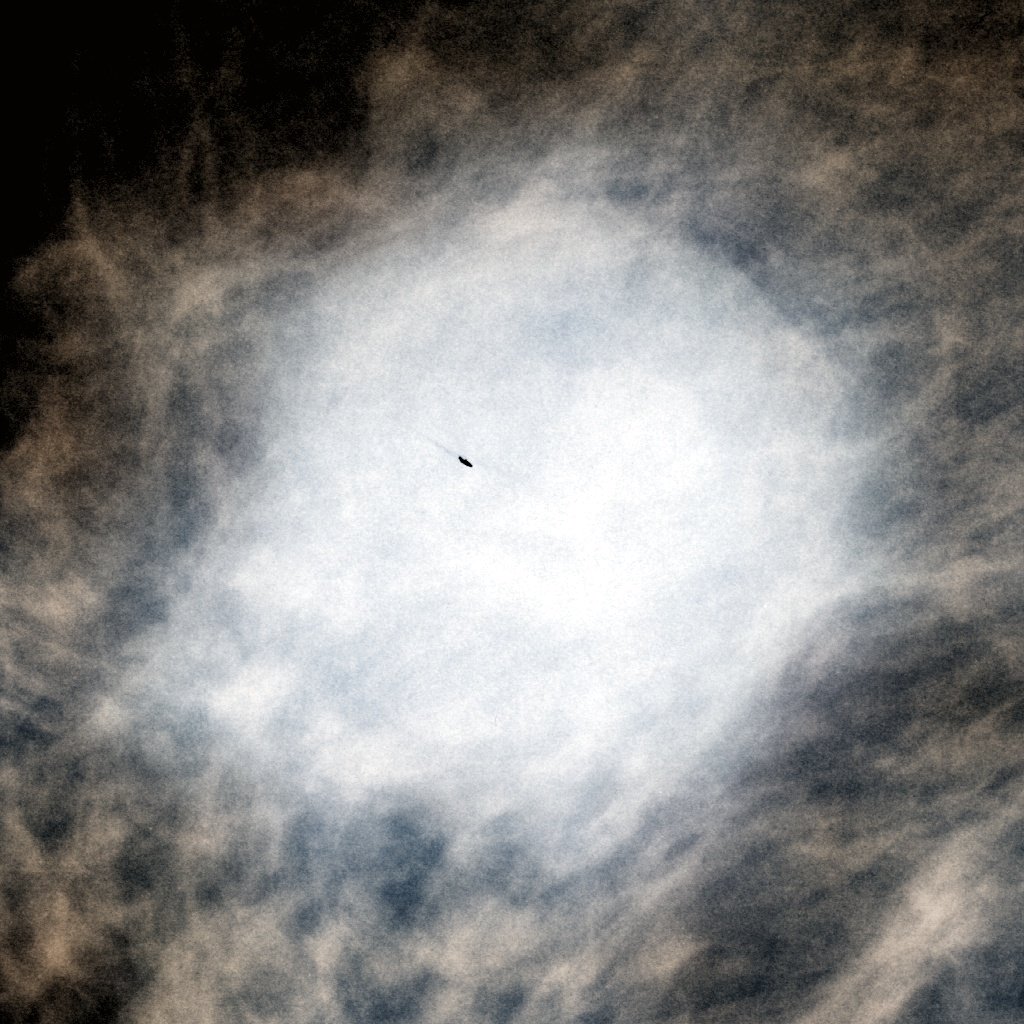tumor: (189, 146, 835, 878)
